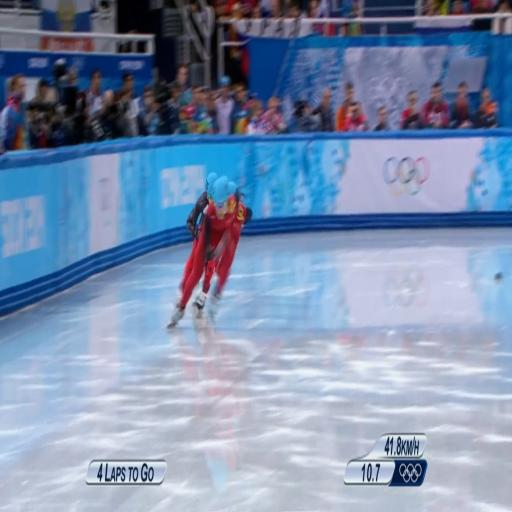Skater: (168, 177, 236, 328), (209, 183, 252, 320), (177, 173, 217, 302)
